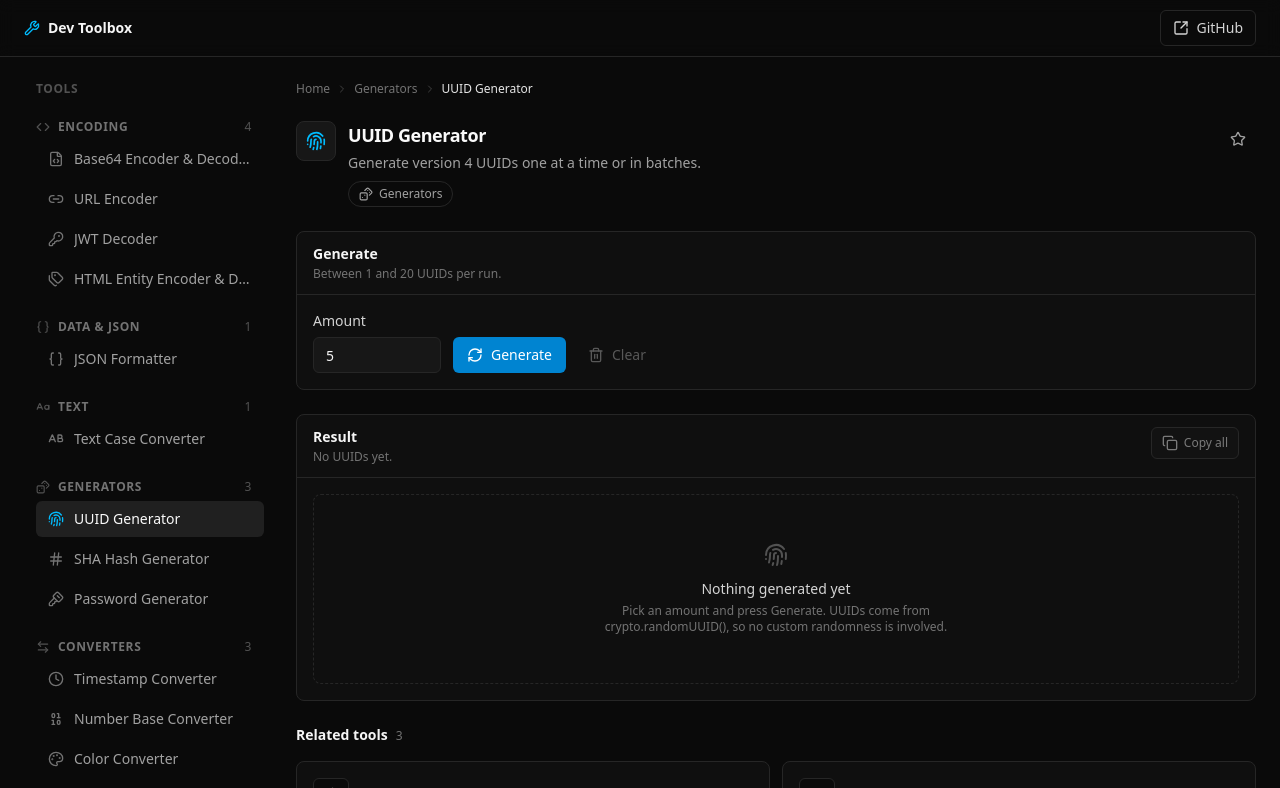
it: UUID Generator › generates the requested amount of version 4 UUIDs
Expected: the heading "UUID Generator" is shown, [348,123,486,147]
Click the button "Generate" at (510, 355), box [453,337,566,373]
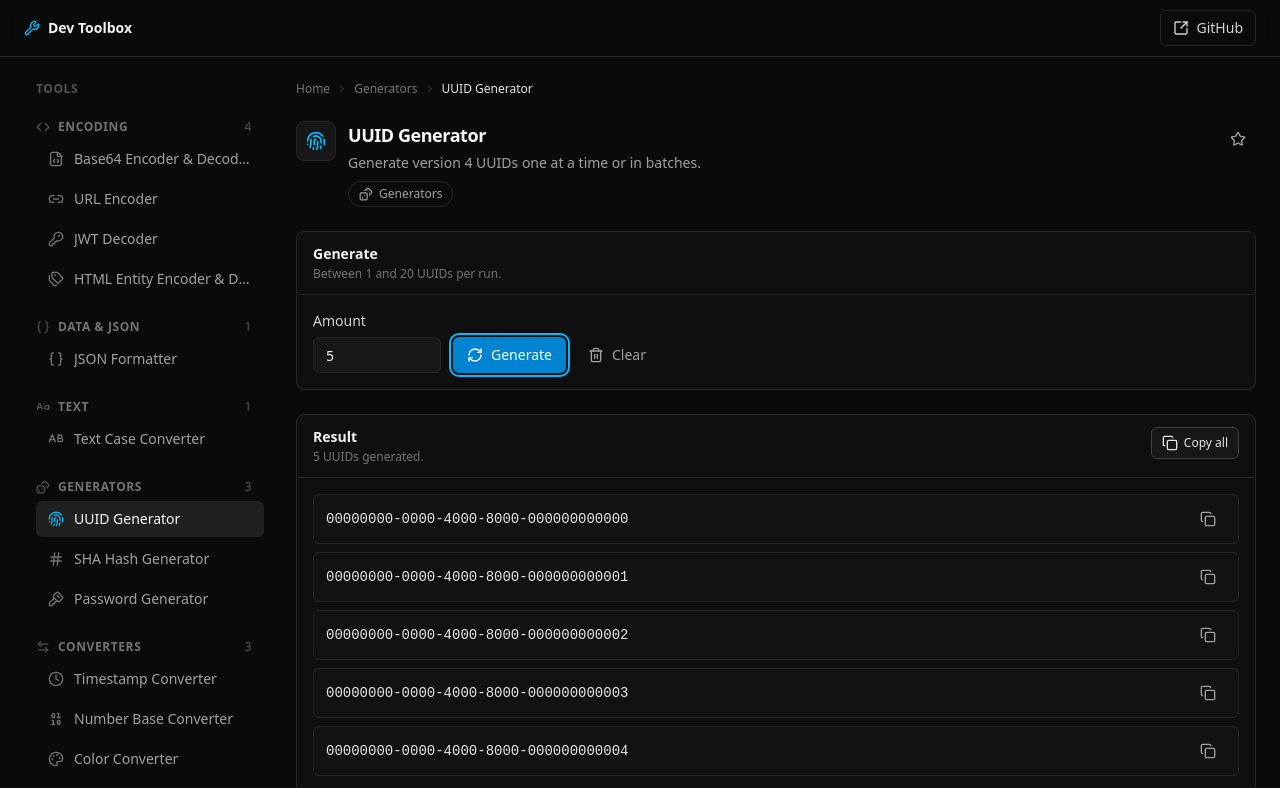
Expected: the text "5 UUIDs generated." is shown, [313,449,424,465]
Expected: the button "Copy all" is enabled, [1151,427,1239,459]
